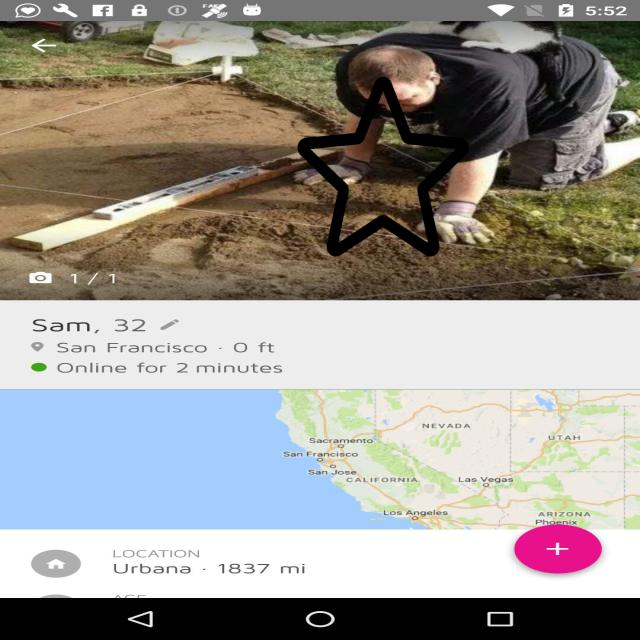forced continuity: (297, 73, 469, 260)
